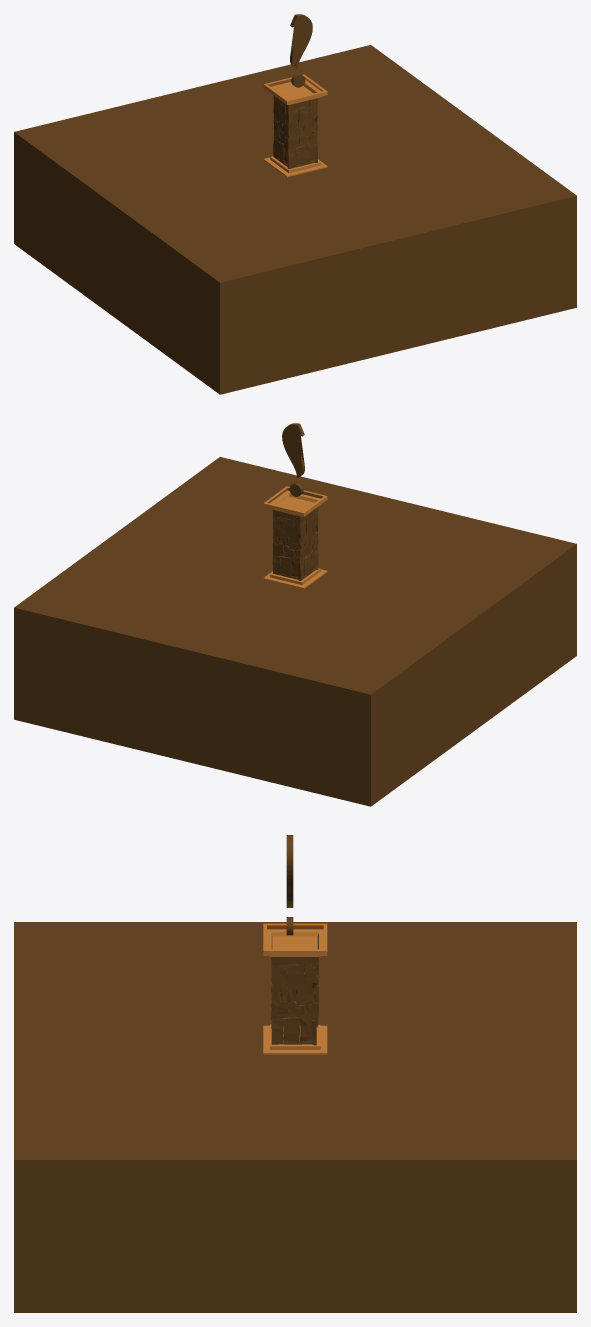
File: rr2_cover.fbx
3 views of the same model, one above another, from view 1: azimuth 30°, elevation 25°; view 2: azimuth 150°, elevation 25°; view 3: azimuth 270°, elevation 25° (orthographic). The views are drawn at different scales.
Parts seen in each view (by area): view 1: Cover.010; view 2: Cover.010; view 3: Cover.010.
Part boxes in pixels (<box>): Cover.010: <box>14,14,576,394</box>; Cover.010: <box>14,423,576,806</box>; Cover.010: <box>14,835,576,1312</box>.
Size of the model in its own units: 11.08 by 7.77 by 11.08.
